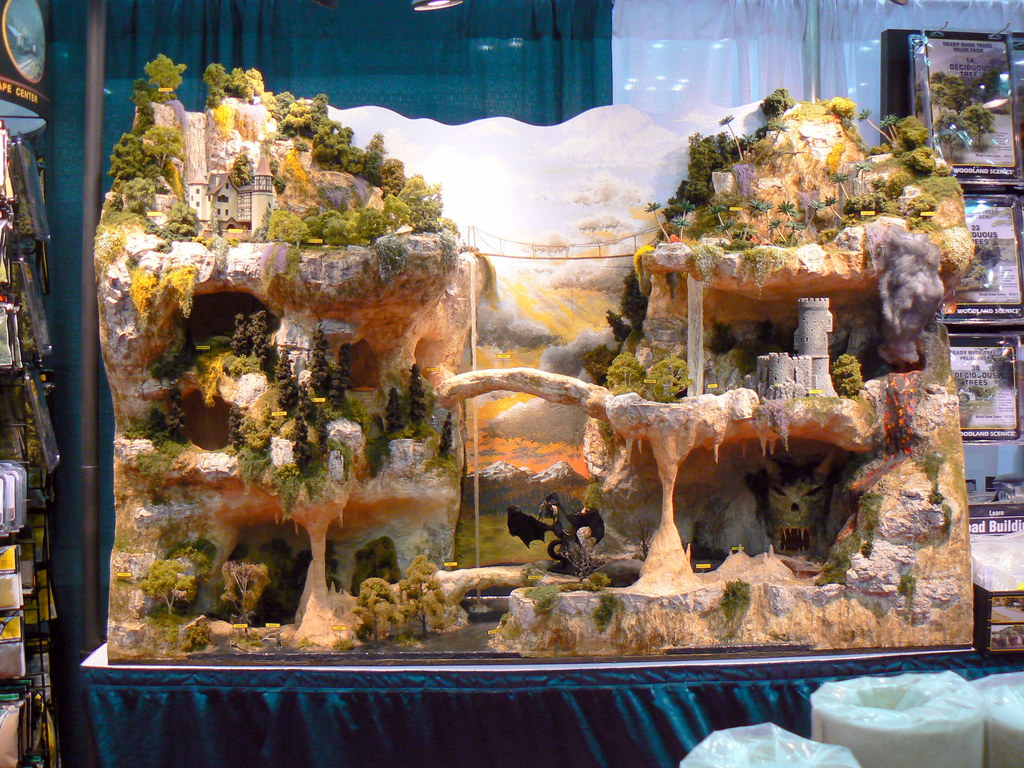Tree: (110, 268, 463, 483), (99, 50, 451, 252), (577, 252, 948, 413), (645, 79, 959, 244), (106, 524, 473, 664)
